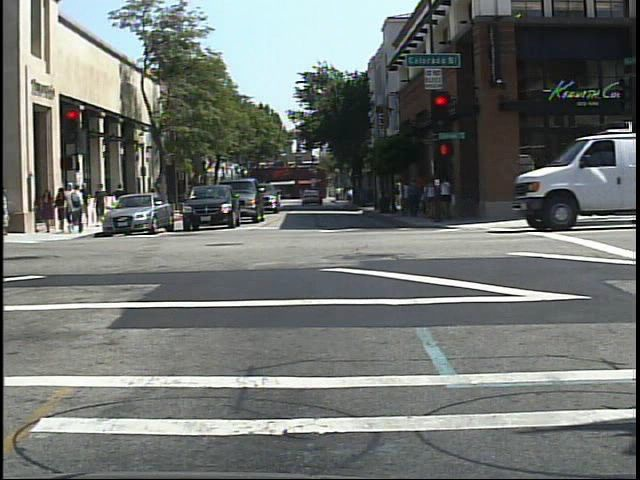person: (66, 181, 88, 238)
